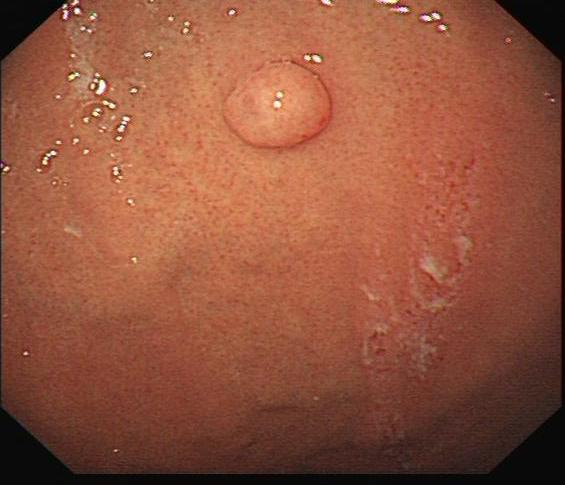Polyp: (206, 41, 361, 171)
